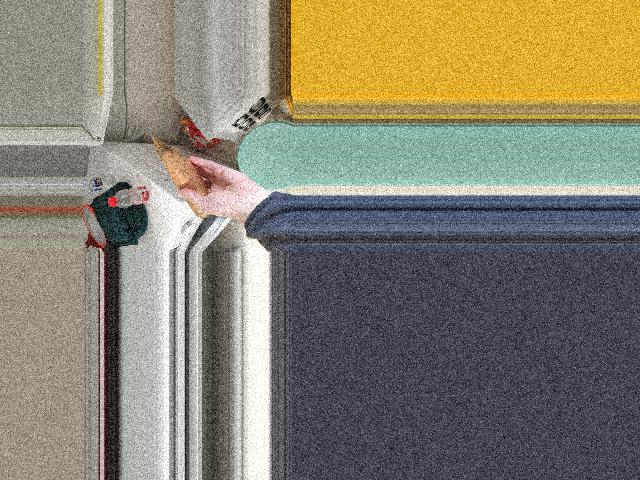sweet_potato: (172, 163, 217, 215)
